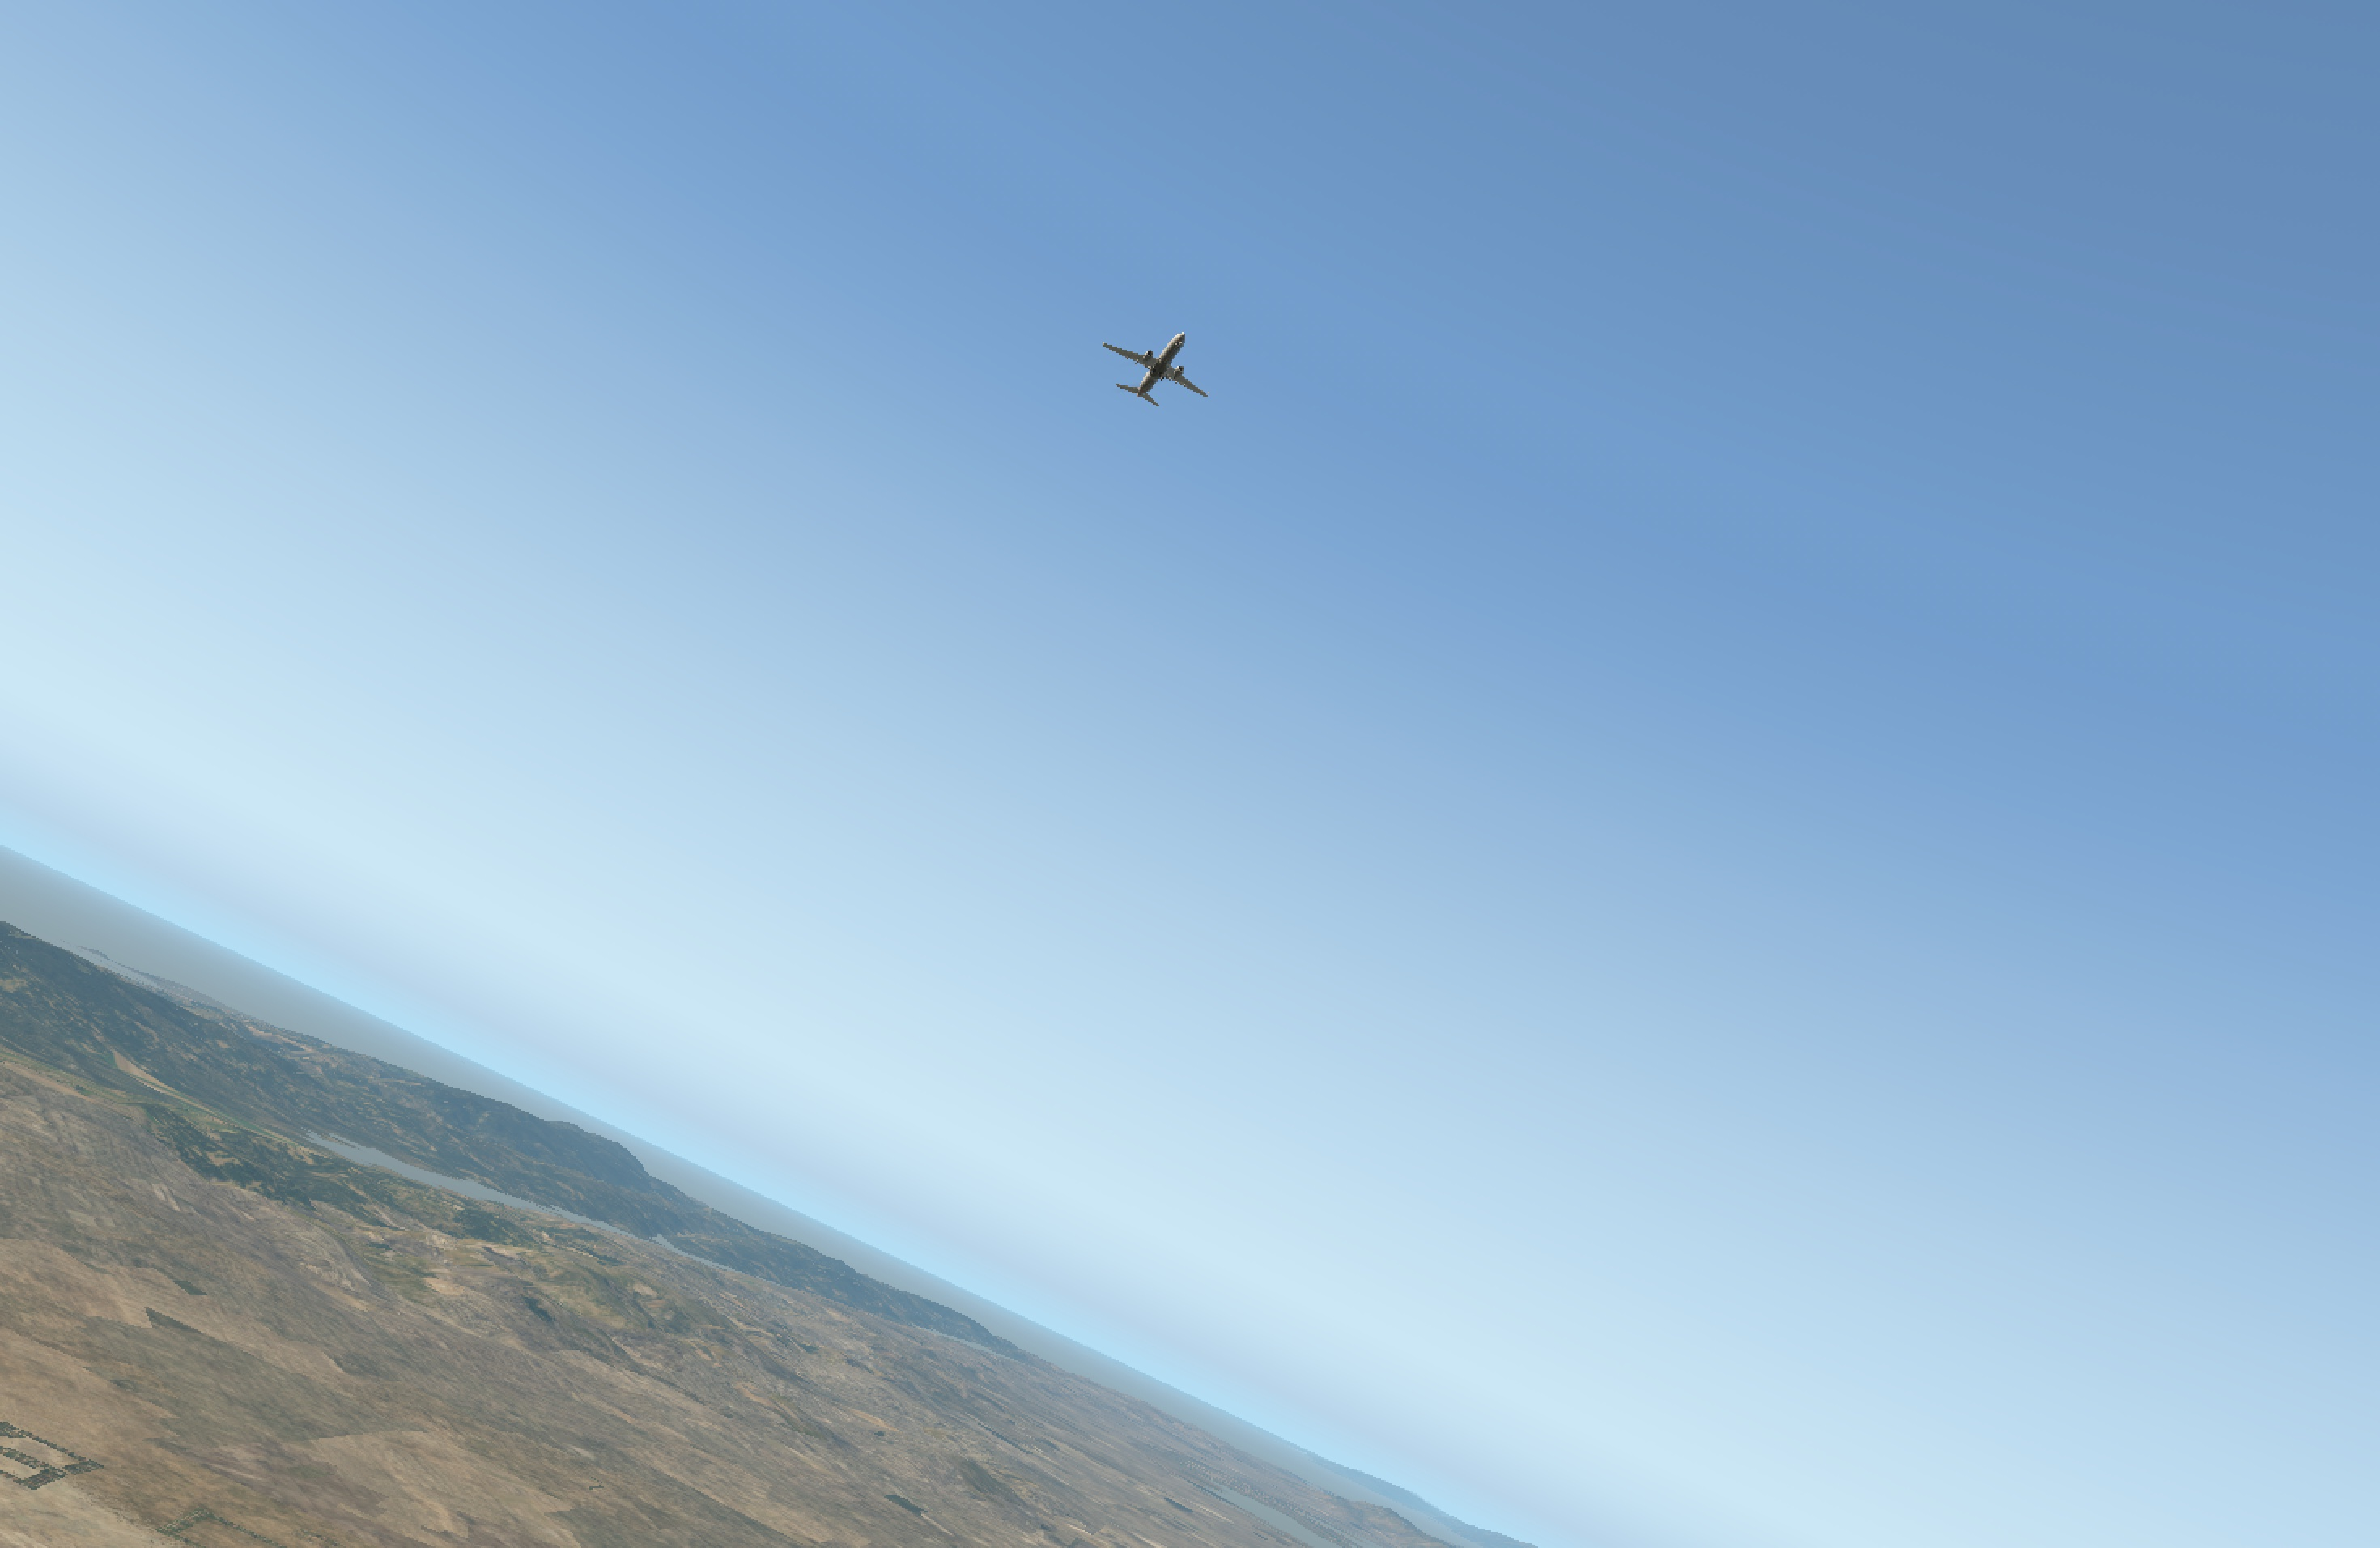aircraft: (1093, 342, 1228, 392)
